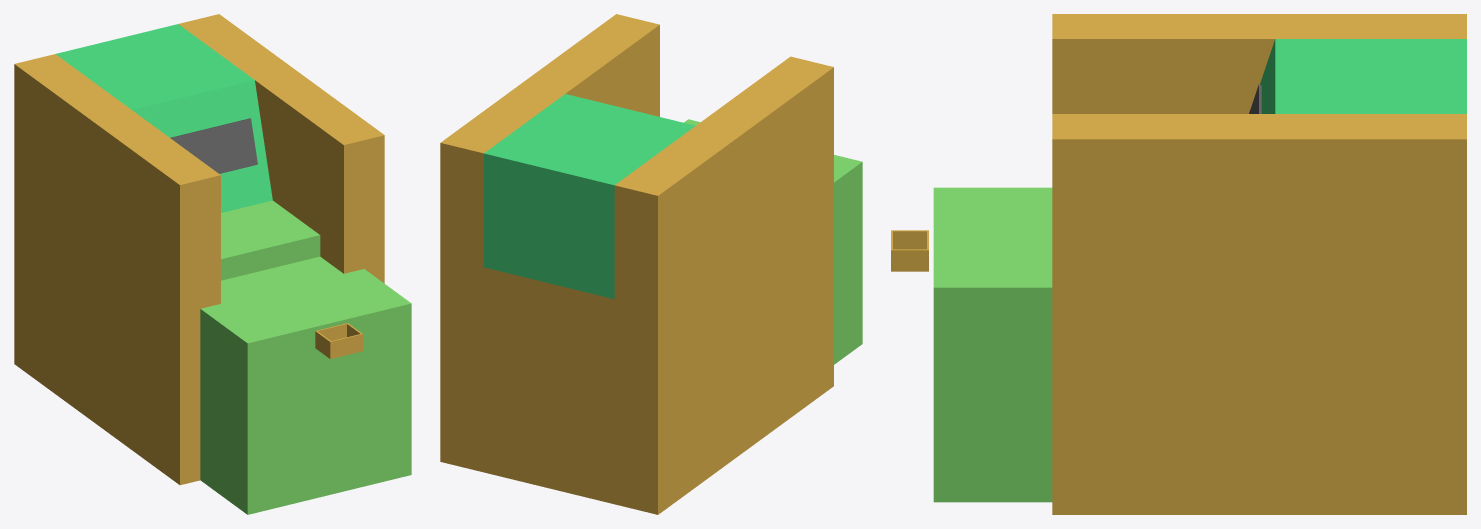
File: CoinMachine.fbx
3 views of the same model, side by side, from view 1: azimuth 30°, elevation 25°; view 2: azimuth 150°, elevation 25°; view 3: azimuth 270°, elevation 25° (orthographic). The views are drawn at different scales.
Visible parts, largest first — view 1: SideLeft, Center, SideRight, Center2, Slider, CenterMonitor, Bowl; view 2: SideLeft, Center2, SideRight, Center; view 3: SideRight, Center, SideLeft, Center2, Bowl.
Boxes of the visible parts, box(x1,y1,x2,y2) form: SideLeft: box(14, 54, 220, 485); Center: box(200, 256, 411, 514); SideRight: box(178, 14, 384, 283); Center2: box(56, 24, 272, 212); Slider: box(221, 200, 320, 280); CenterMonitor: box(170, 118, 257, 173); Bowl: box(315, 323, 362, 358); SideLeft: box(614, 56, 833, 514); Center2: box(484, 94, 695, 504); SideRight: box(440, 14, 659, 472); Center: box(684, 119, 862, 364); SideRight: box(1052, 114, 1466, 514); Center: box(933, 187, 1052, 502); SideLeft: box(1052, 14, 1466, 113); Center2: box(1260, 39, 1466, 113); Bowl: box(891, 230, 928, 271).
Bounding box in the file's own units: 1000 × 1400 × 1944.
